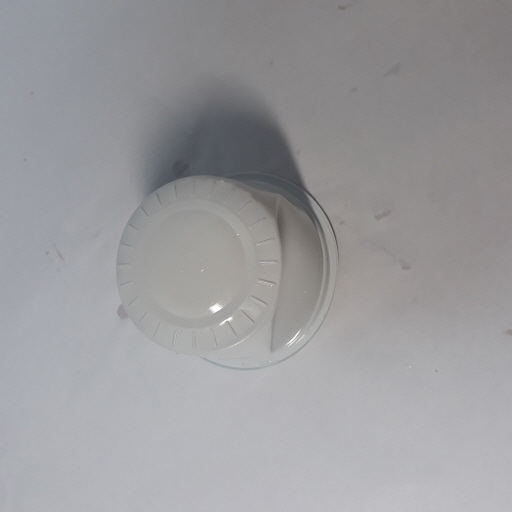Plastic_5: (111, 170, 339, 371)
